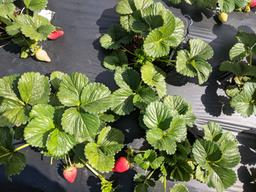green strawberry: (35, 49, 52, 62), (219, 12, 228, 24)
red strawberry: (112, 156, 131, 173), (63, 166, 77, 183), (47, 29, 65, 40)
